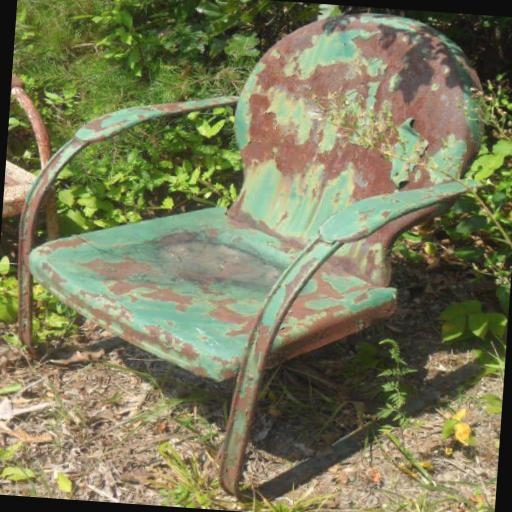segmentation: (200, 9, 381, 172), (354, 14, 498, 186), (117, 243, 273, 366), (268, 118, 404, 221), (172, 214, 282, 277), (5, 69, 59, 169), (322, 244, 387, 290), (50, 246, 110, 292), (0, 160, 38, 223), (308, 308, 347, 342), (46, 208, 60, 238)
